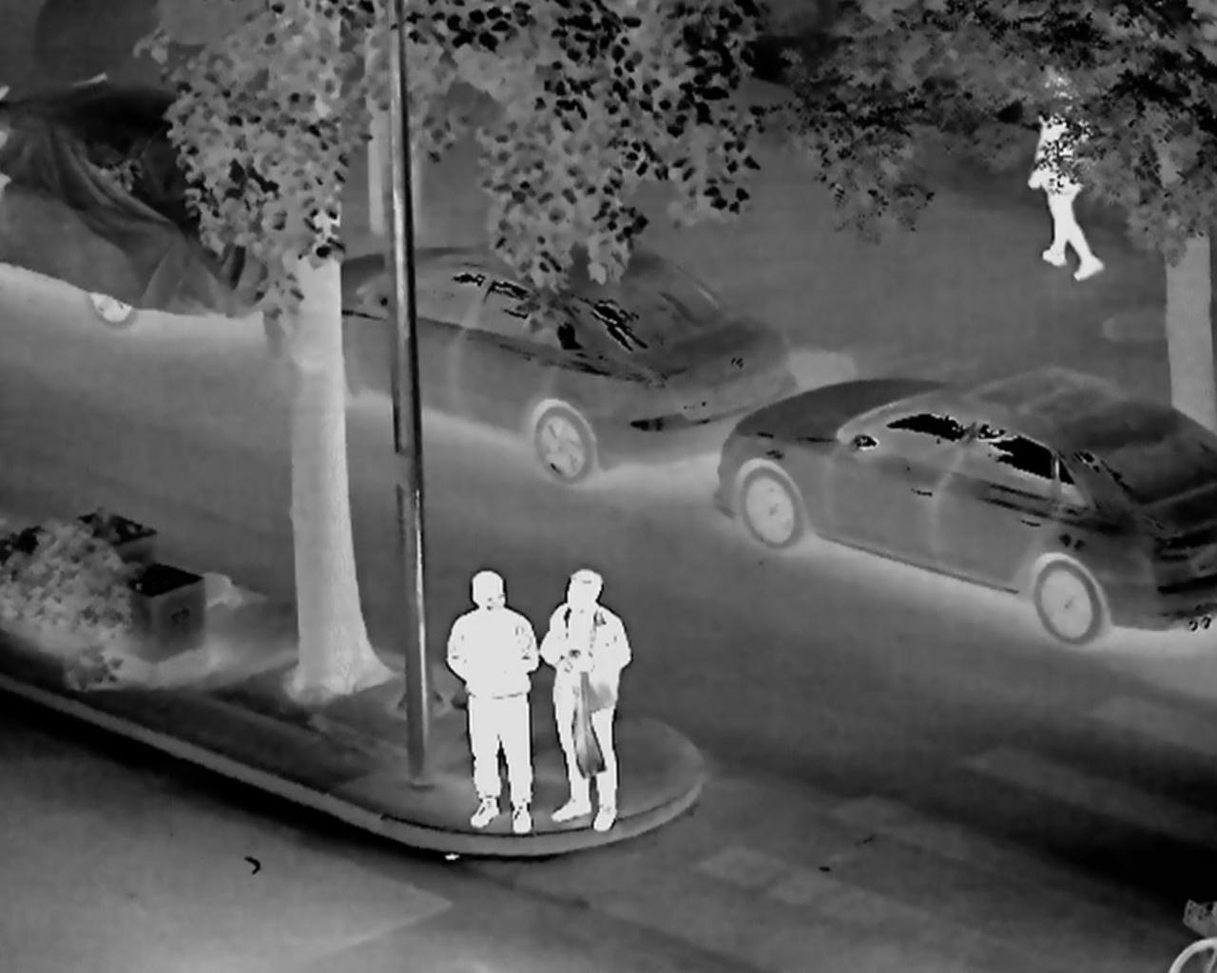person: (448, 556, 545, 847), (542, 564, 627, 831), (1021, 71, 1106, 285)
